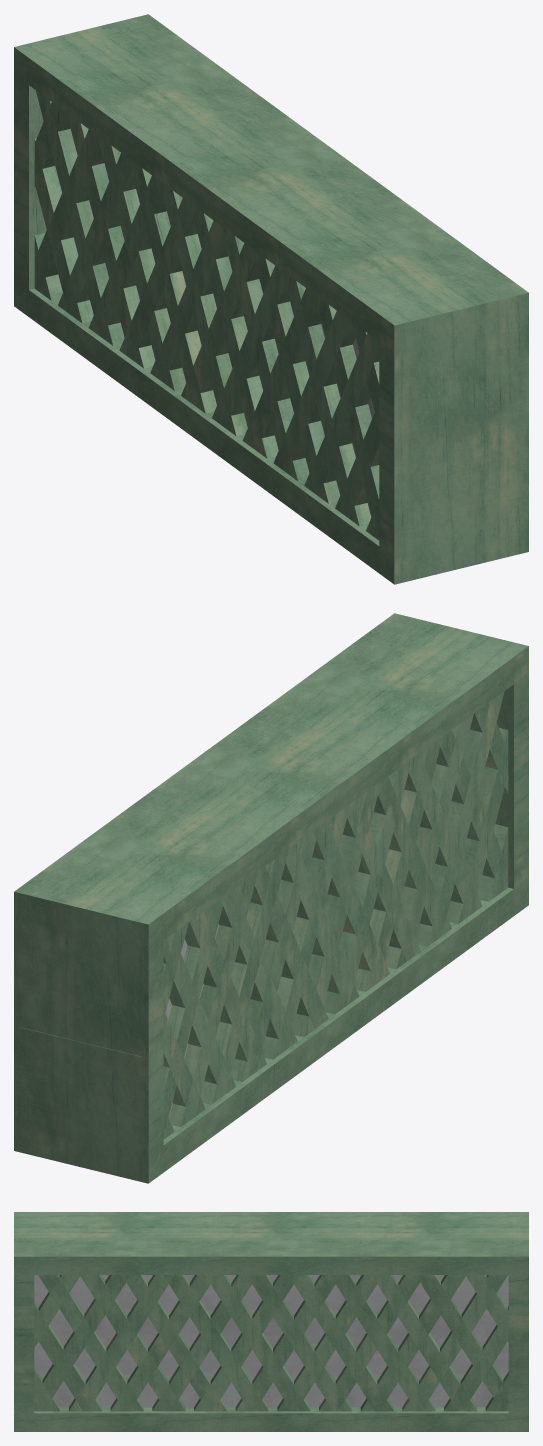
The model's file is SM_WI_Wood_6.fbx.
3 views of the same model, one above another, from view 1: azimuth 30°, elevation 25°; view 2: azimuth 150°, elevation 25°; view 3: azimuth 270°, elevation 25° (orthographic). The views are drawn at different scales.
Parts seen in each view (by area): view 1: SM_WI_Wood_6; view 2: SM_WI_Wood_6; view 3: SM_WI_Wood_6.
Boxes of the visible parts, x1=… form: SM_WI_Wood_6: x1=14, y1=14, x2=528, y2=584; SM_WI_Wood_6: x1=14, y1=613, x2=528, y2=1183; SM_WI_Wood_6: x1=14, y1=1212, x2=528, y2=1431.
Size of the model in its own units: 15.53 by 76.11 by 28.59.
2 materials, 2 textured.
